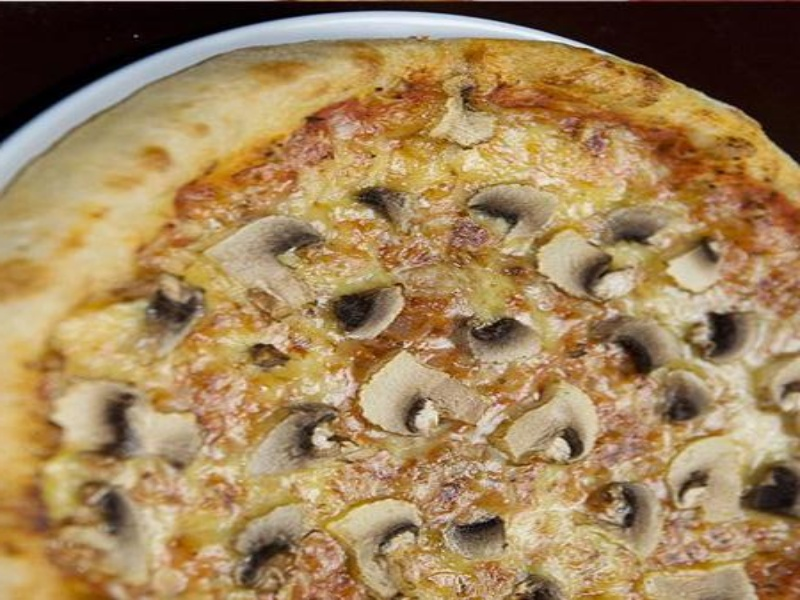champignon: (347, 345, 492, 442), (201, 213, 329, 313), (322, 486, 430, 600), (227, 394, 351, 475), (573, 471, 667, 567), (501, 375, 600, 466), (458, 181, 565, 263), (663, 437, 750, 530), (462, 307, 553, 379)
